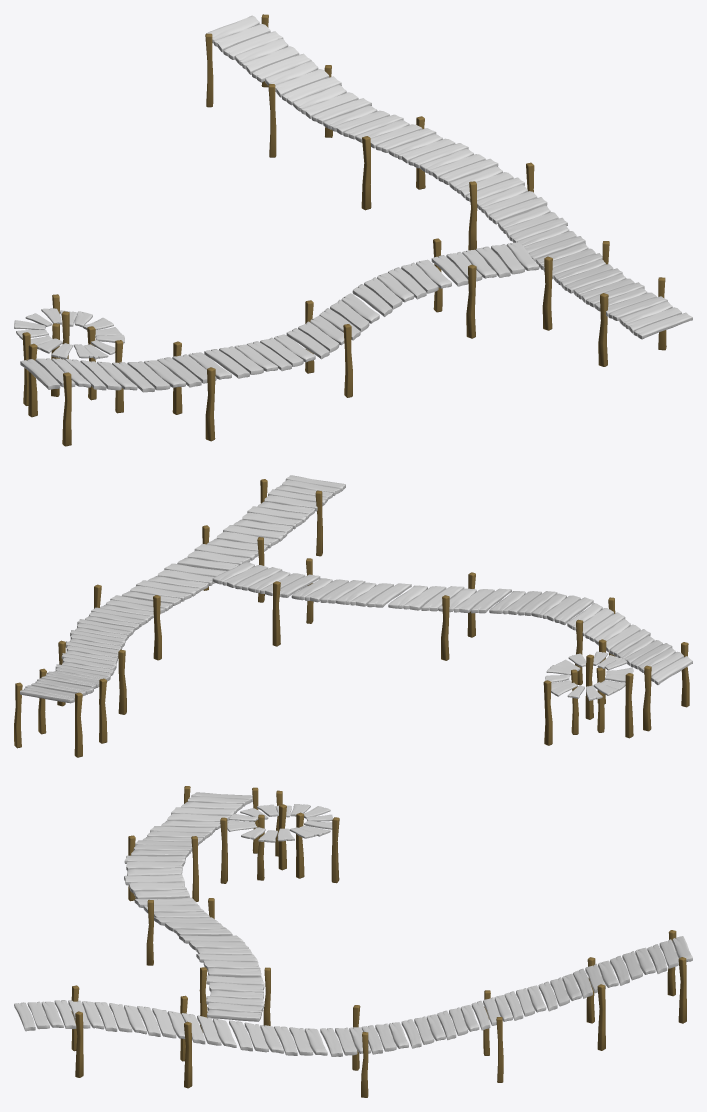
File: RIverHousing.fbx
The picture shows the model from 3 angles, top to bottom: view 1: azimuth 30°, elevation 25°; view 2: azimuth 150°, elevation 25°; view 3: azimuth 270°, elevation 25°; orthographic projection. The views are drawn at different scales.
Parts seen in each view (by area): view 1: HighResTRack.017; view 2: HighResTRack.017; view 3: HighResTRack.017.
Boxes of the visible parts, x1,y1,x2,y2 form: HighResTRack.017: (14, 14, 692, 446); HighResTRack.017: (14, 475, 692, 757); HighResTRack.017: (14, 786, 692, 1097).
Size of the model in its own units: 5030 by 924 by 5684.
